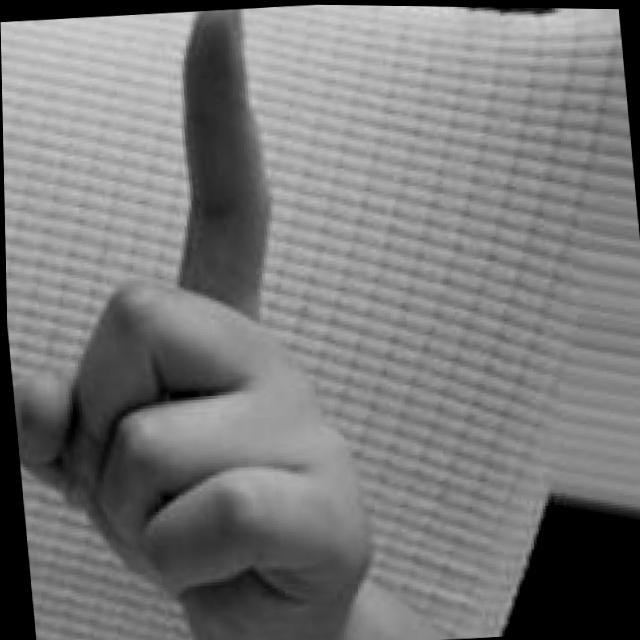I: (0, 0, 386, 640)
